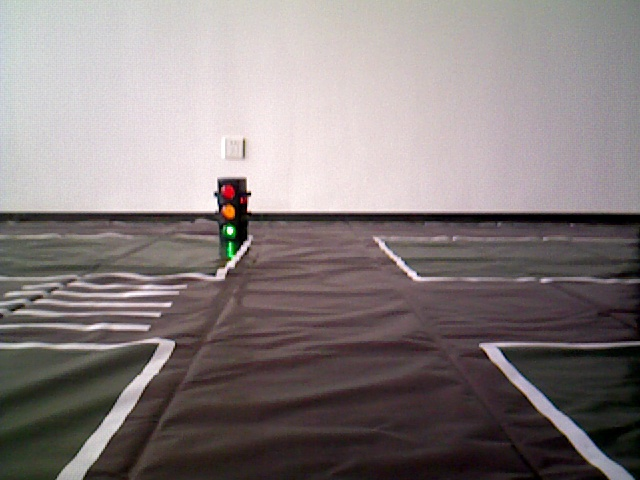green: (218, 180, 245, 236)
